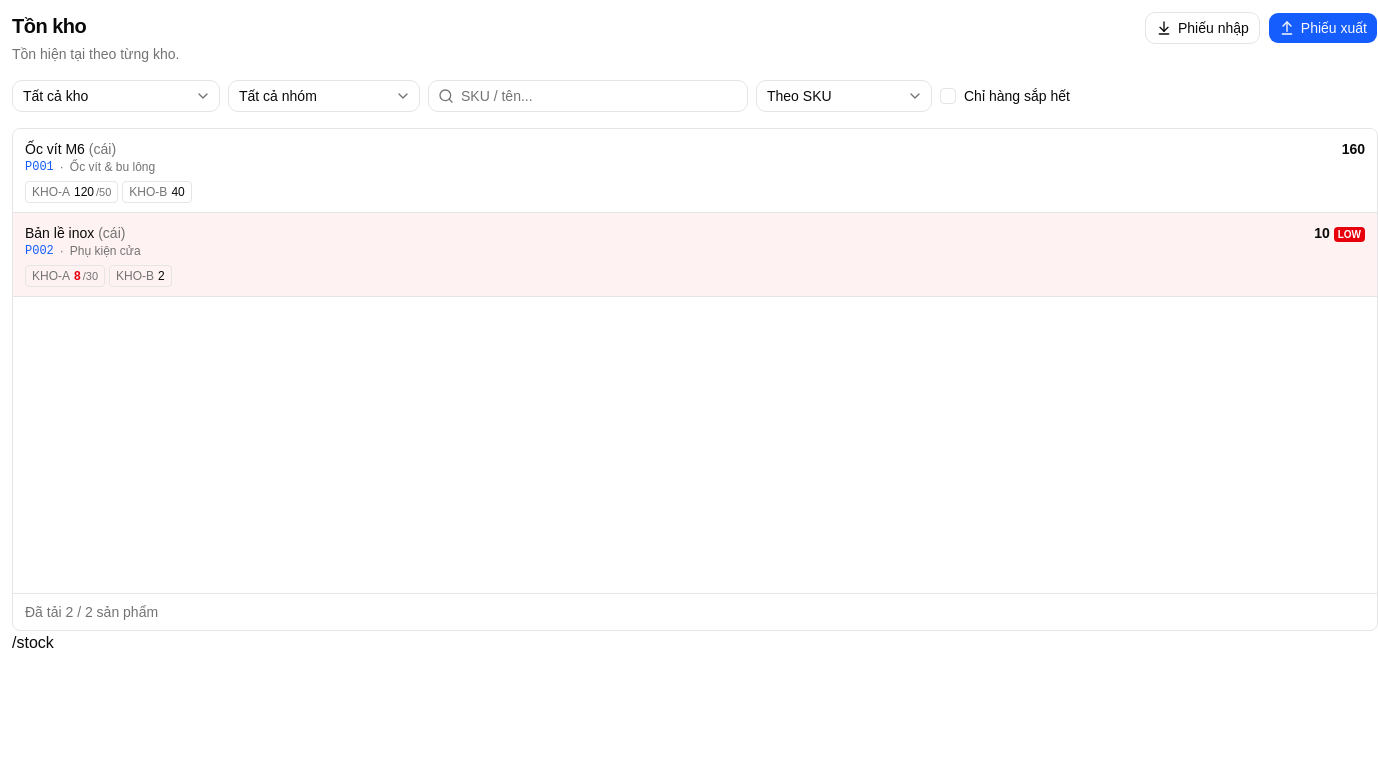
Scenario: StockPage › "Chỉ hàng sắp hết" filters on the server and is kept in the URL
Expected: the link "P001" is shown, [25,158,54,174]
Click the checkbox named "Chỉ hàng sắp hết": (948, 96) [940,88,956,104]
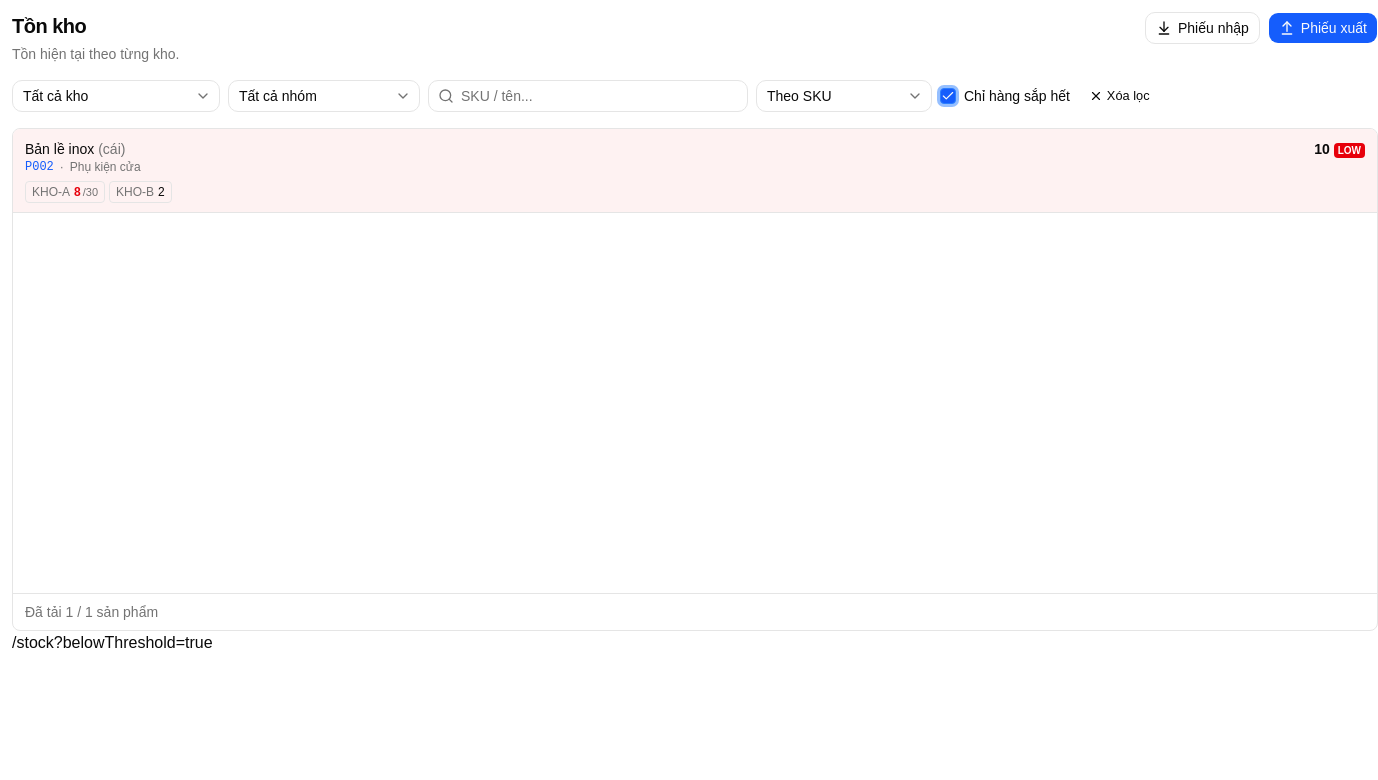
Result: the text with test id "location" reads "/stock?belowThreshold=true" at [12,634,213,651]
Result: the text "Đã tải 1 / 1 sản phẩm" is shown at [25,602,158,622]
Result: the link "P001" is gone
